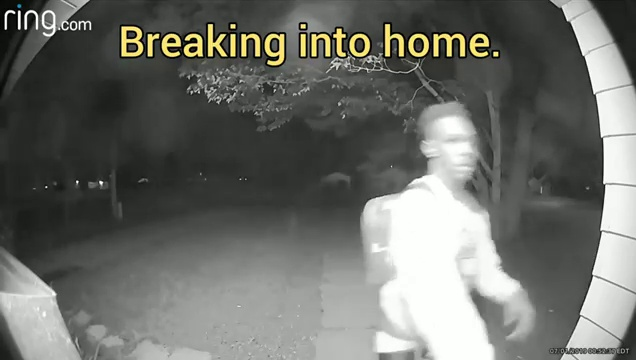face: (438, 126, 478, 175)
